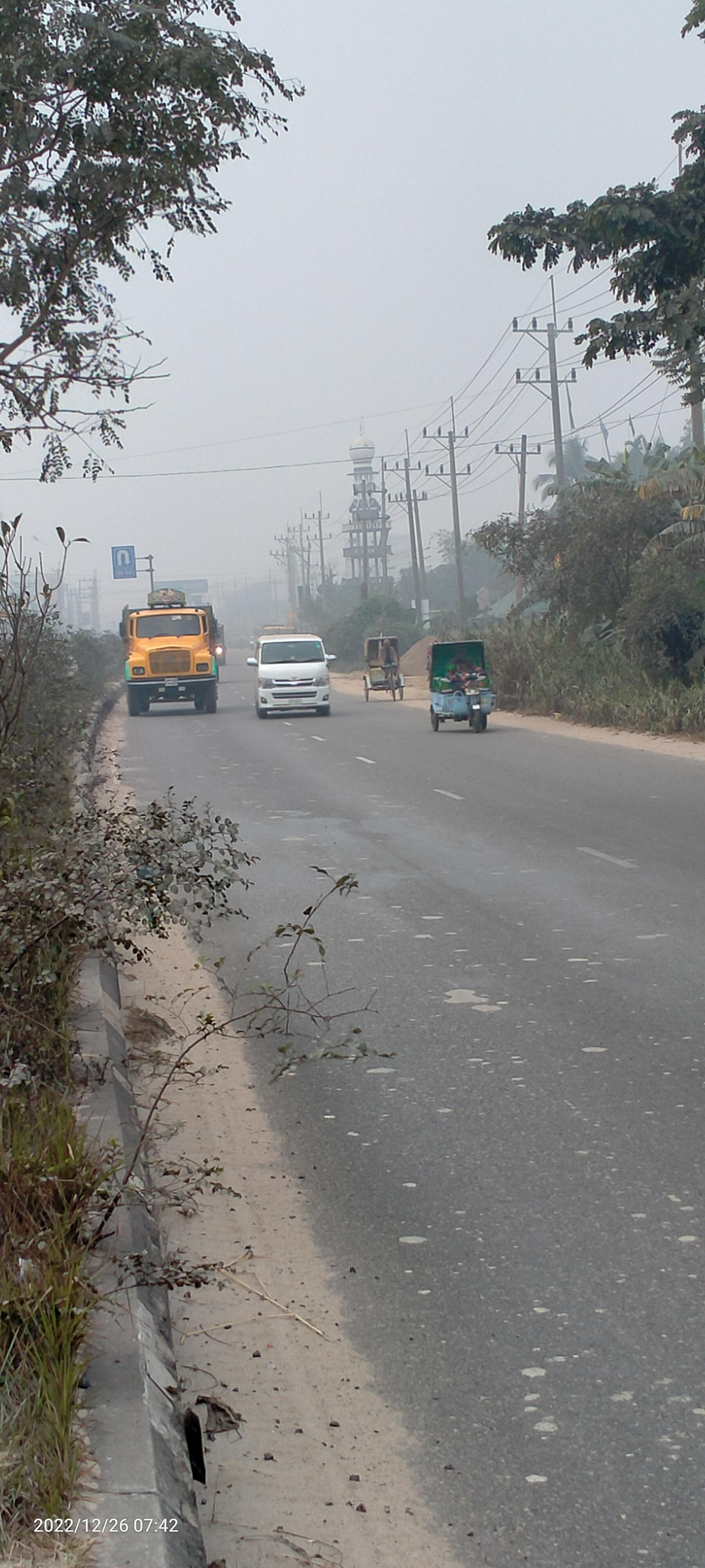Car: (244, 627, 347, 726), (418, 633, 506, 738), (361, 630, 410, 706)
Truck: (112, 584, 231, 719)
